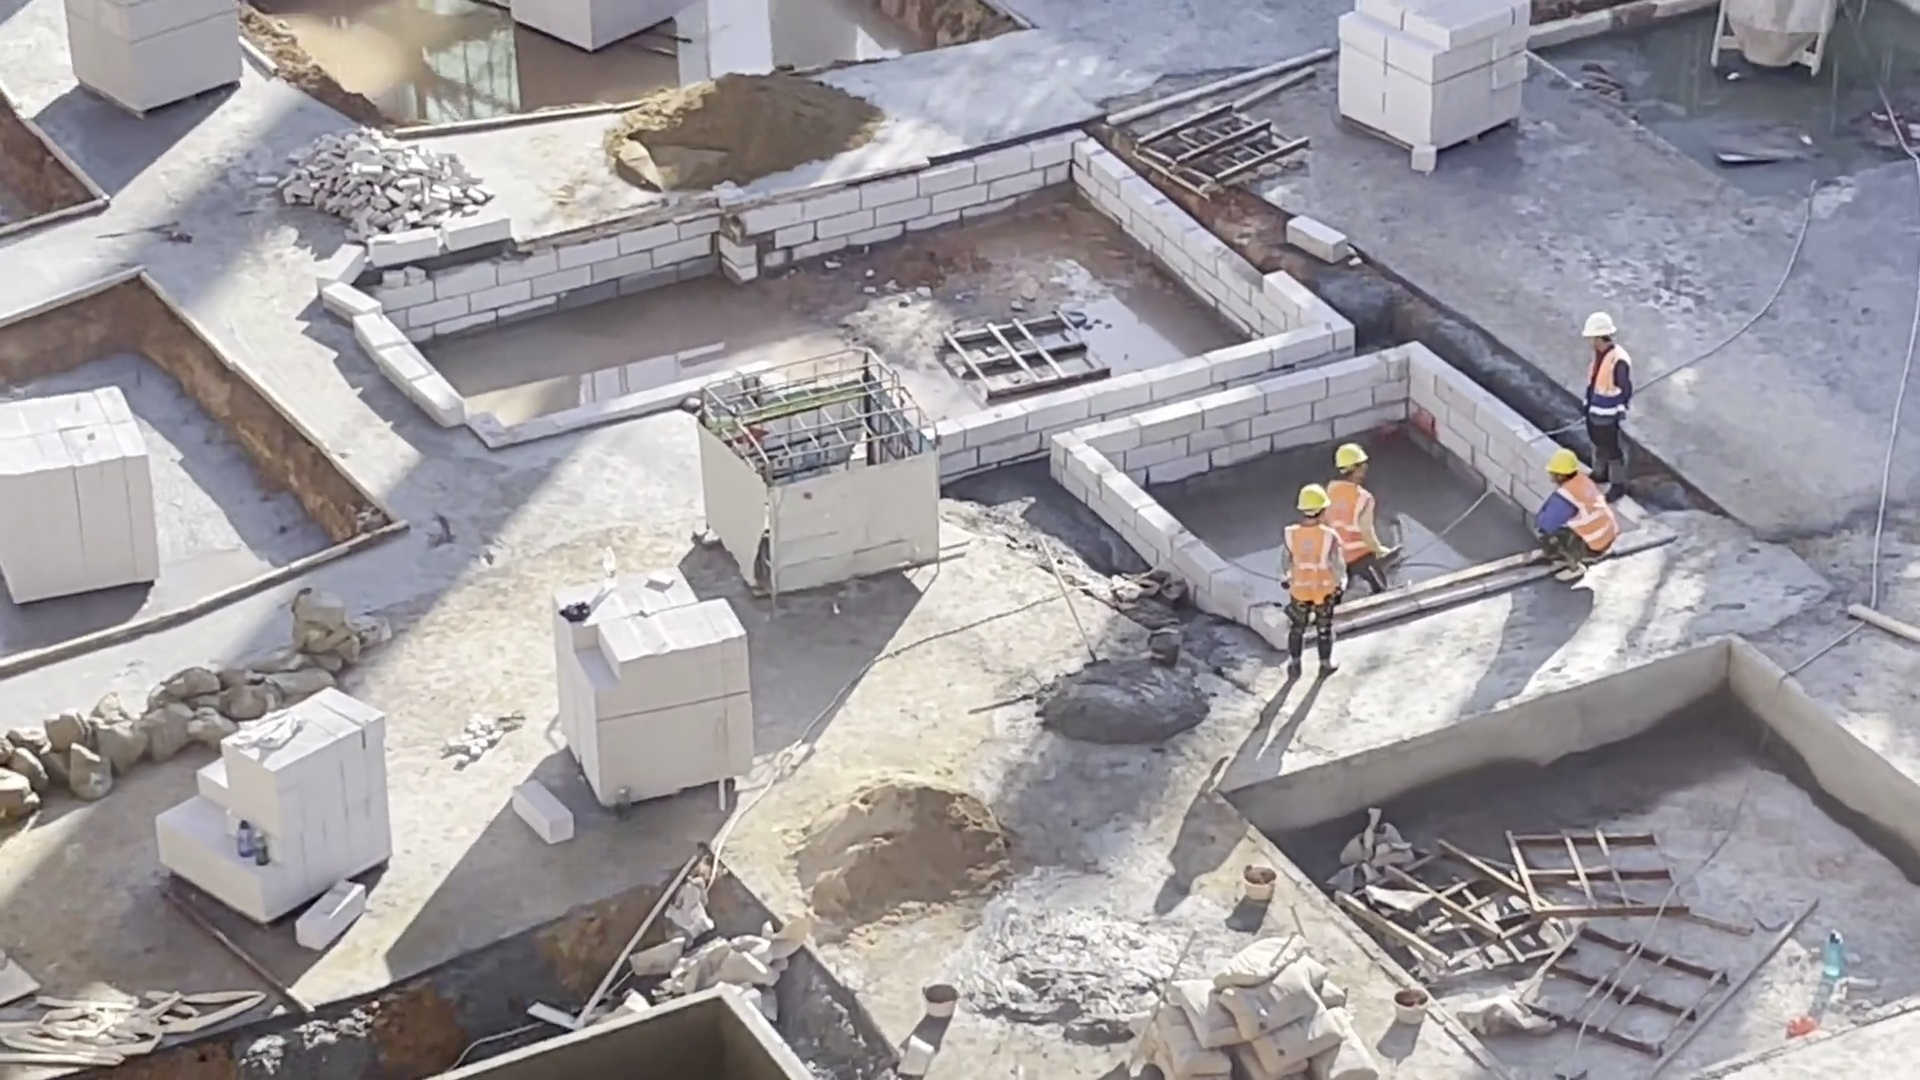helmet: (1296, 483, 1335, 523), (1578, 309, 1620, 345), (1338, 441, 1371, 475), (1550, 453, 1576, 479)
person: (1522, 442, 1617, 601), (1570, 293, 1648, 480), (1321, 434, 1395, 605), (1278, 475, 1344, 646)
vest: (1278, 502, 1345, 616), (1556, 474, 1609, 555), (1320, 479, 1368, 567), (1589, 348, 1635, 429)
